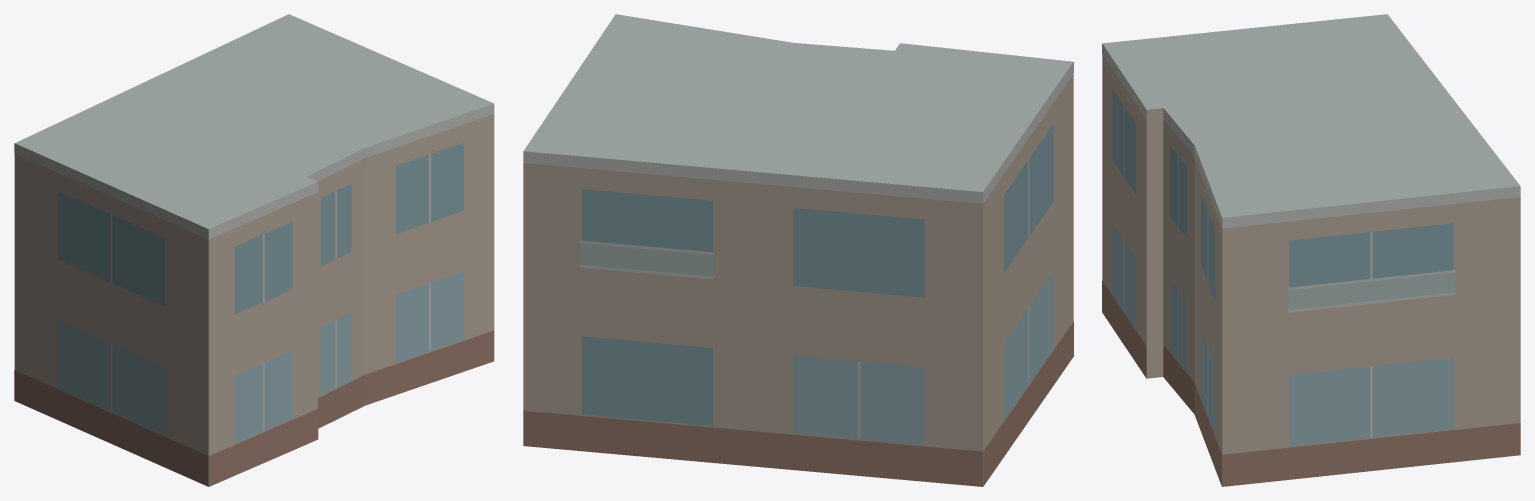
Rendered from survey-upis-32768070.glb.
The picture shows the model from 3 angles, left to right: view 1: azimuth 30°, elevation 25°; view 2: azimuth 150°, elevation 25°; view 3: azimuth 270°, elevation 25°; orthographic projection. The views are drawn at different scales.
Parts seen in each view (by area): view 1: survey-upis-32768070.tmp; view 2: survey-upis-32768070.tmp; view 3: survey-upis-32768070.tmp.
Boxes of the visible parts, <box> form: survey-upis-32768070.tmp: <box>14,14,494,486</box>; survey-upis-32768070.tmp: <box>523,14,1073,486</box>; survey-upis-32768070.tmp: <box>1102,14,1520,486</box>.
Bounding box in the file's own units: 9.93 × 6.1 × 8.61.
